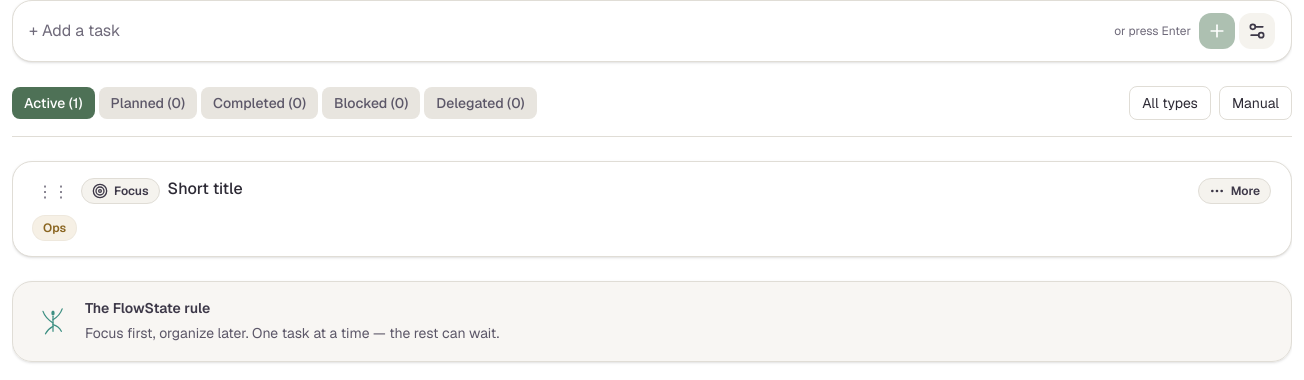
TaskList › shows planned empty state
The width and height of the screenshot is (1304, 380).
Step 1. Click the tab "Planned (0)" → (148, 103), box [99,87,197,119]
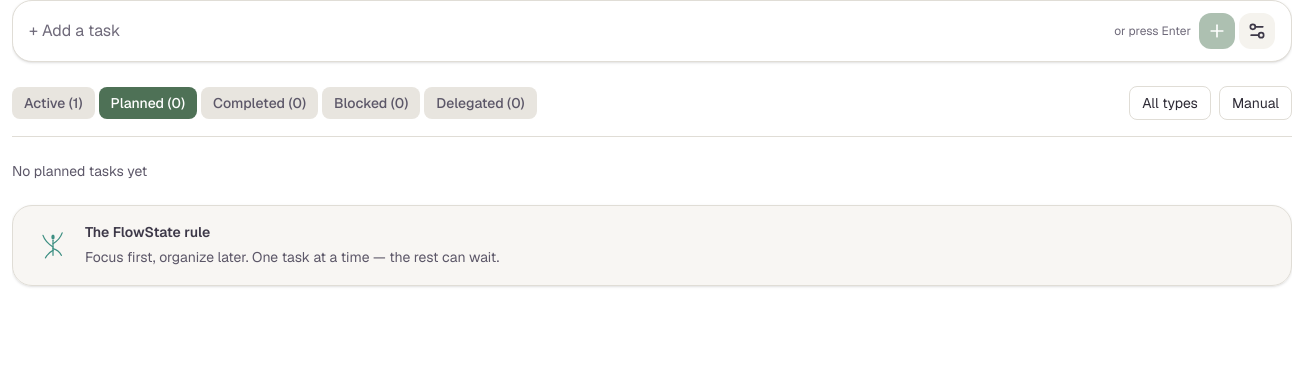
Now the text "No planned tasks yet" is shown, box [12,162,147,180]
